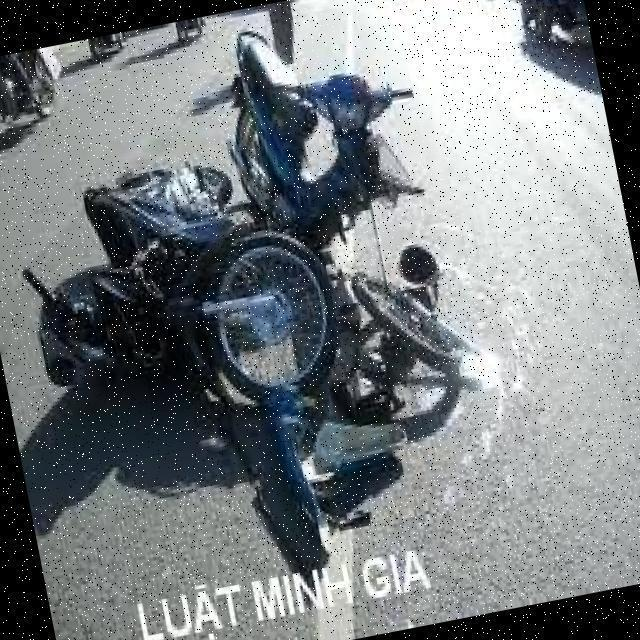accident: (0, 0, 553, 614)
